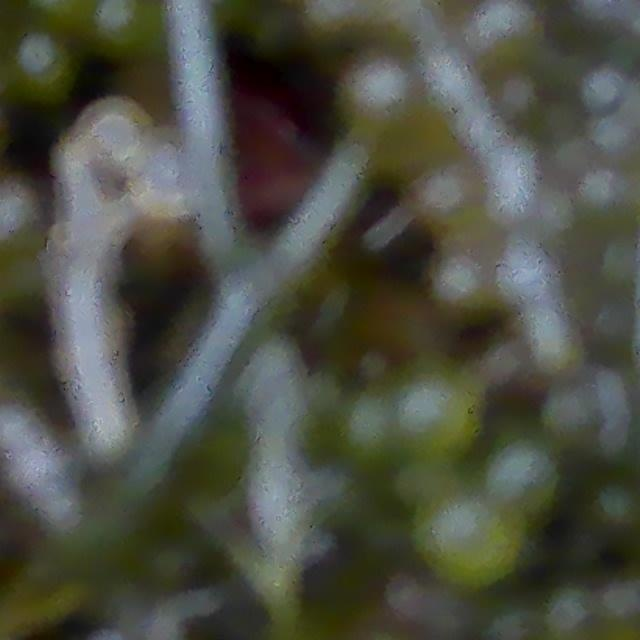SeaGrape: (412, 492, 520, 592), (391, 368, 484, 458), (126, 130, 207, 216), (339, 53, 415, 131), (484, 437, 560, 510), (88, 104, 144, 161), (128, 144, 184, 201), (148, 164, 204, 221), (15, 34, 67, 92)
